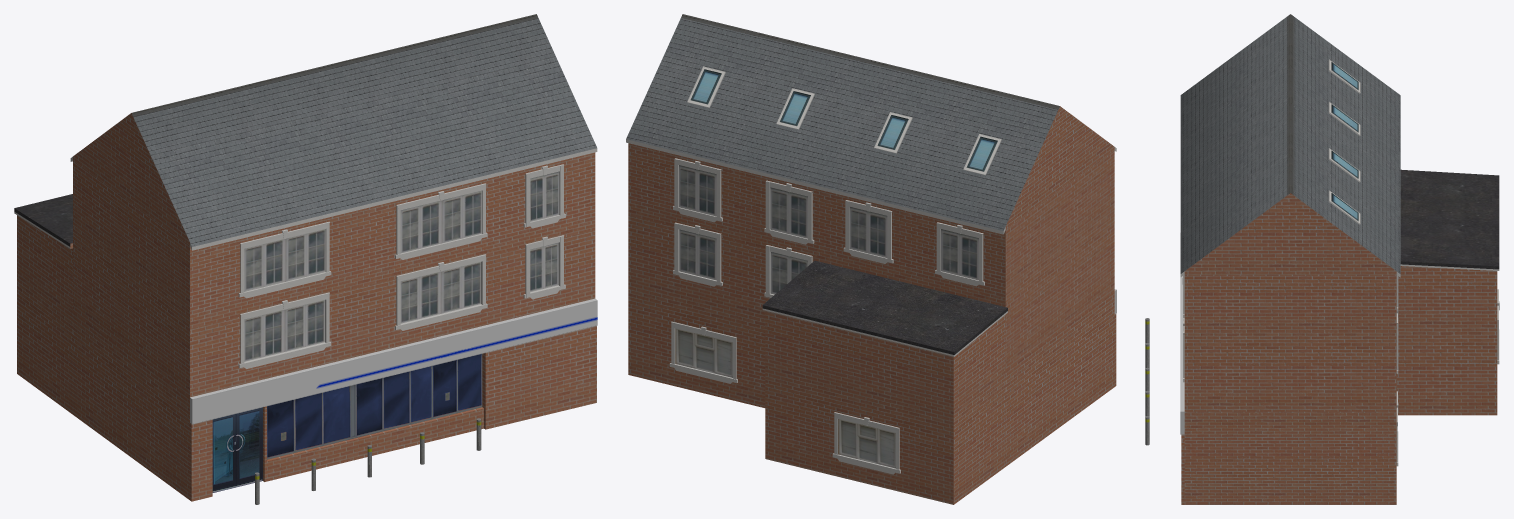
File: ukcommercialfood8.FBX
The picture shows the model from 3 angles, left to right: view 1: azimuth 30°, elevation 25°; view 2: azimuth 150°, elevation 25°; view 3: azimuth 270°, elevation 25°; orthographic projection. The views are drawn at different scales.
Visible parts, largest first — view 1: Box002; view 2: Box002; view 3: Box002.
Boxes of the visible parts, x1,y1,x2,y2 form: Box002: [14, 14, 597, 504]; Box002: [626, 14, 1116, 504]; Box002: [1145, 14, 1499, 504].
Bounding box in the file's own units: 1610 × 1300 × 1337.
